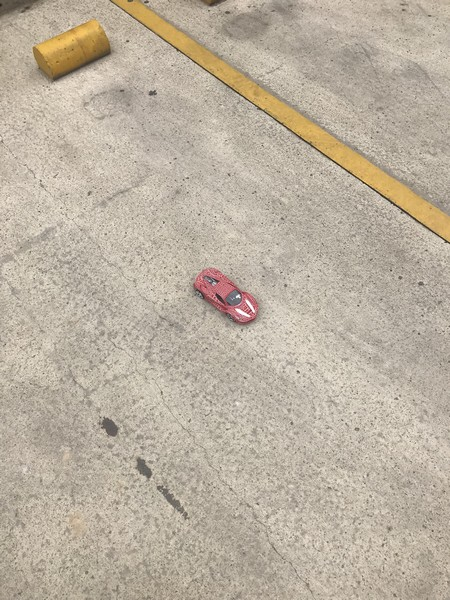RC: (191, 266, 262, 326)
